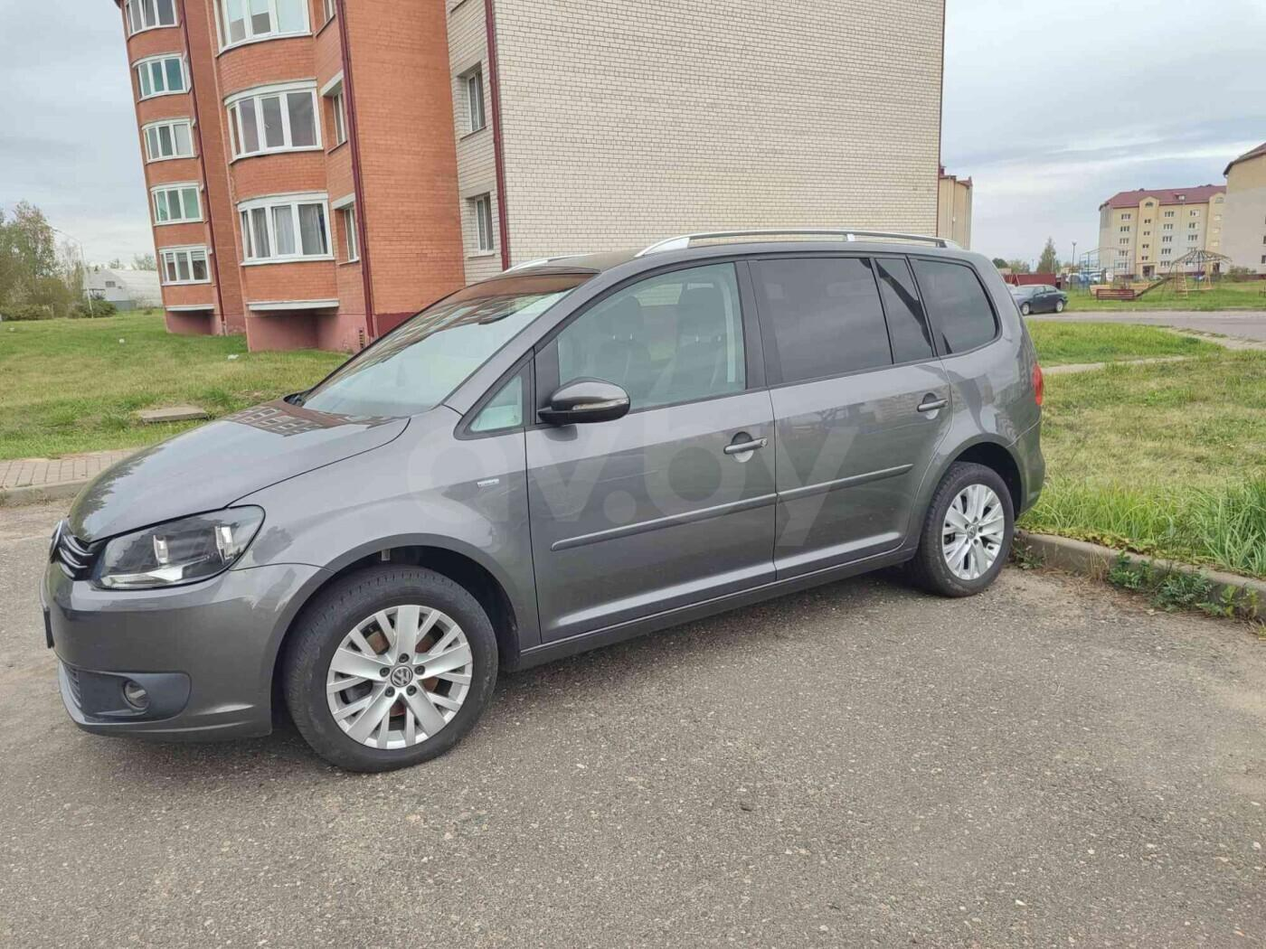Touran_2010-2015: (37, 230, 1058, 793)
